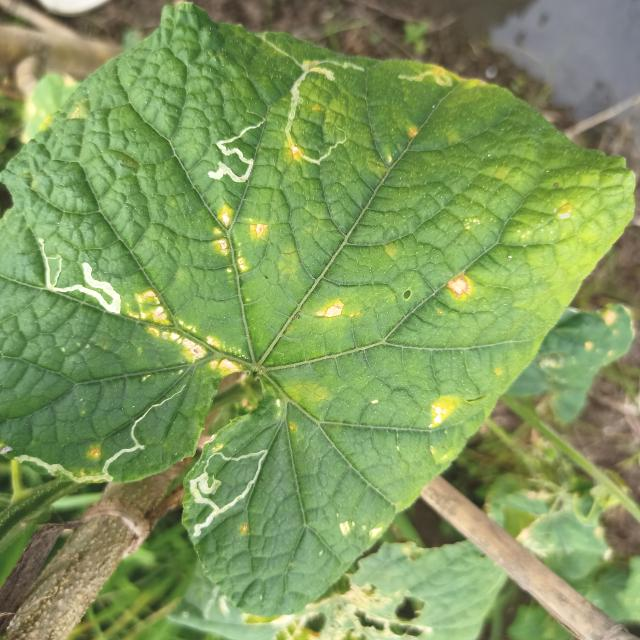disease_cucumber: (123, 287, 244, 379), (212, 201, 270, 277), (335, 514, 388, 540), (428, 391, 462, 430), (316, 295, 344, 320), (446, 275, 471, 298), (85, 445, 102, 459)
